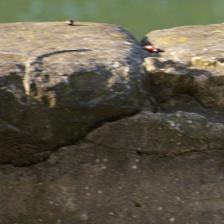Crack: (28, 71, 114, 153), (108, 125, 169, 157)
